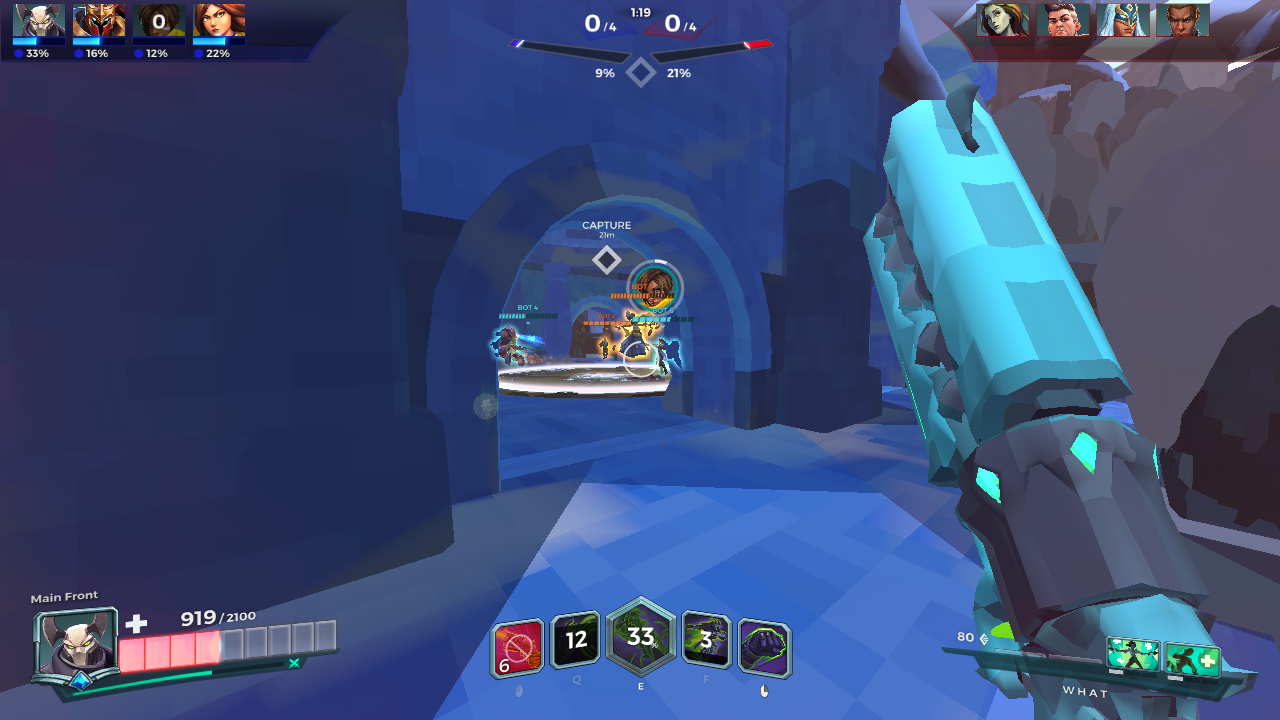model: (619, 304, 656, 360), (596, 332, 612, 360)
